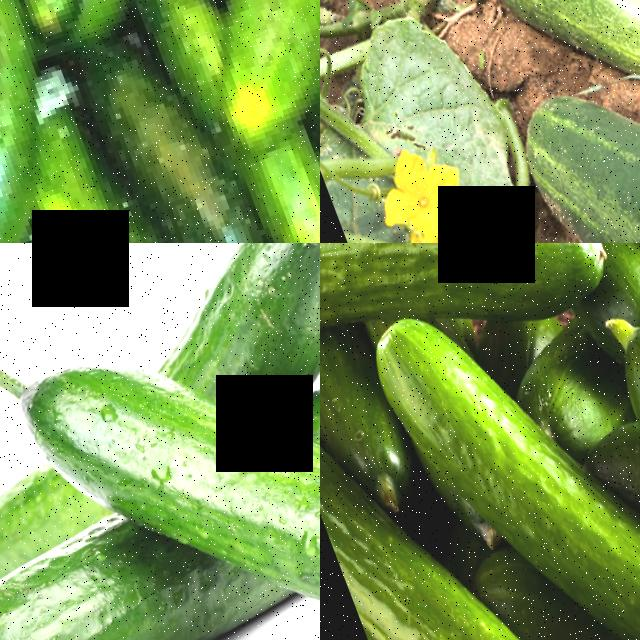cucumber: (365, 273, 631, 621), (5, 297, 282, 581), (69, 8, 278, 243), (320, 243, 609, 385), (337, 494, 567, 640), (0, 500, 210, 640), (0, 85, 182, 243), (508, 29, 640, 243), (154, 243, 320, 409), (167, 0, 320, 149), (466, 0, 640, 114)
